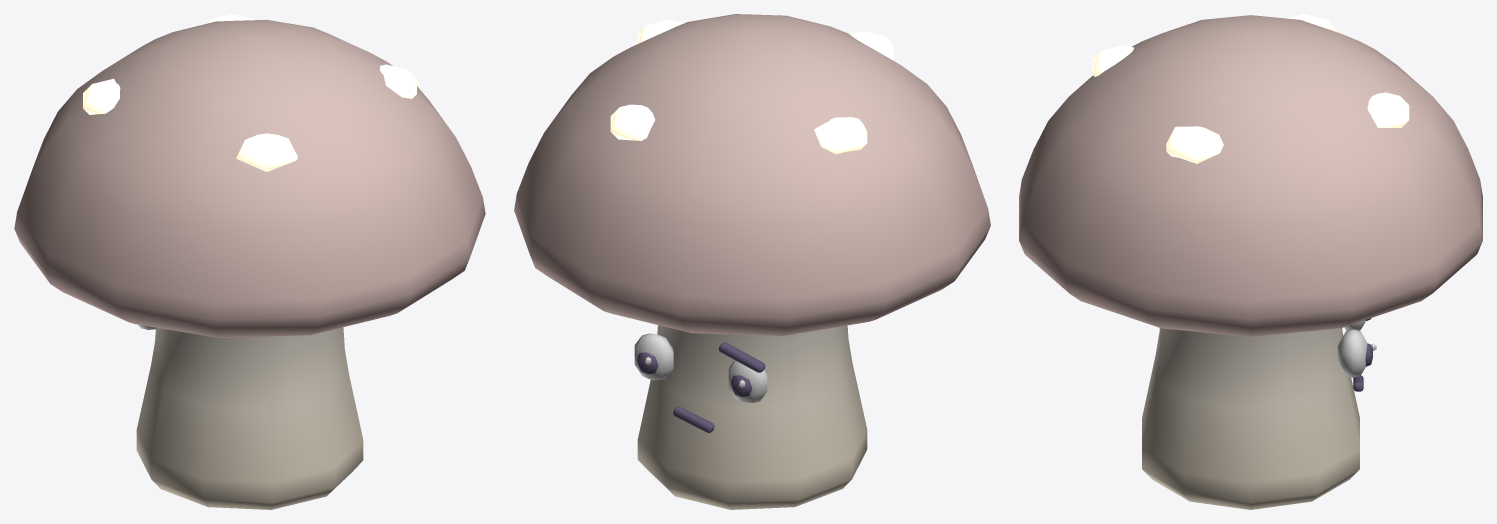
The model's file is art_c_shroom.glb.
The picture shows the model from 3 angles, left to right: view 1: azimuth 30°, elevation 25°; view 2: azimuth 150°, elevation 25°; view 3: azimuth 270°, elevation 25°; orthographic projection.
Parts seen in each view (by area): view 1: Head, Body, Glow_FF8A65; view 2: Head, Body, Glow_FF8A65, Eye; view 3: Head, Body, Glow_FF8A65, Eye.
Part boxes in pixels (left/top/right/bottom): Head: left=14, top=19, right=485, bottom=337; Body: left=136, top=327, right=363, bottom=509; Glow_FF8A65: left=83, top=14, right=416, bottom=171; Head: left=514, top=14, right=990, bottom=335; Body: left=637, top=325, right=867, bottom=509; Glow_FF8A65: left=610, top=19, right=894, bottom=154; Eye: left=634, top=333, right=767, bottom=402; Head: left=1019, top=15, right=1482, bottom=336; Body: left=1142, top=328, right=1359, bottom=509; Glow_FF8A65: left=1092, top=14, right=1409, bottom=163; Eye: left=1337, top=318, right=1376, bottom=377.
Size of the model in its own units: 0.9297 by 0.94 by 0.9064.
